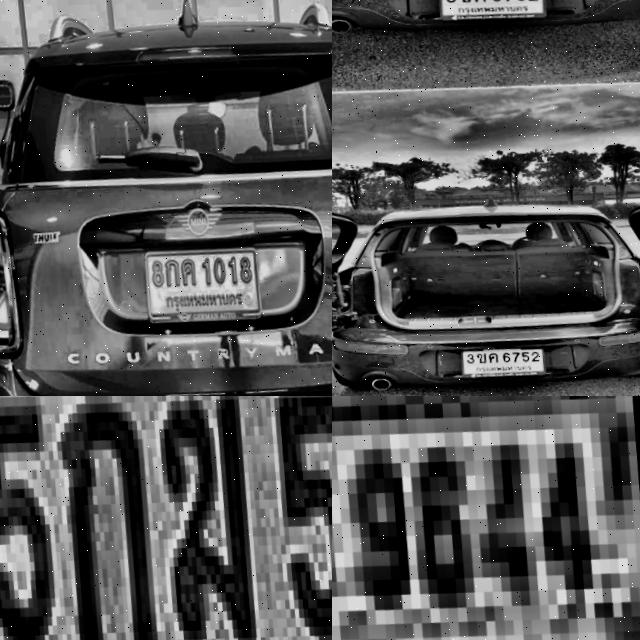license-plate: (0, 396, 332, 640), (332, 396, 640, 640), (135, 220, 271, 336), (462, 333, 554, 379), (433, 0, 548, 23)
